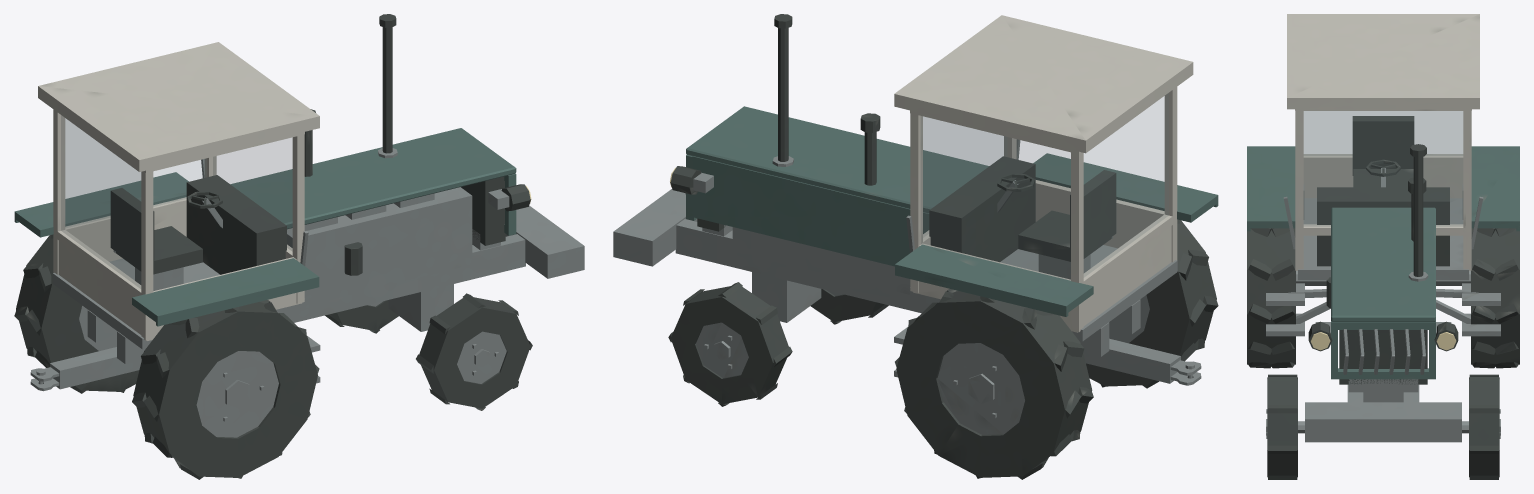
The model's file is farmland_farm_tractor_abandoned.glb.
3 renders of one model, left to right at view 1: azimuth 30°, elevation 25°; view 2: azimuth 150°, elevation 25°; view 3: azimuth 270°, elevation 25°, orthographic. The views are drawn at different scales.
Visible parts, largest first — view 1: FarmTractorAbandoned, FarmTractorGlassAbandoned; view 2: FarmTractorAbandoned, FarmTractorGlassAbandoned; view 3: FarmTractorAbandoned, FarmTractorGlassAbandoned.
Boxes of the visible parts, x1=… form: FarmTractorAbandoned: x1=14, y1=14, x2=584, y2=479; FarmTractorGlassAbandoned: x1=61, y1=115, x2=291, y2=288; FarmTractorAbandoned: x1=613, y1=14, x2=1218, y2=479; FarmTractorGlassAbandoned: x1=921, y1=93, x2=1168, y2=279; FarmTractorAbandoned: x1=1247, y1=14, x2=1519, y2=479; FarmTractorGlassAbandoned: x1=1304, y1=111, x2=1462, y2=225.
Size of what is drawn, in the model's own units: 4 by 2.55 by 1.95.
2 materials, 1 textured.
